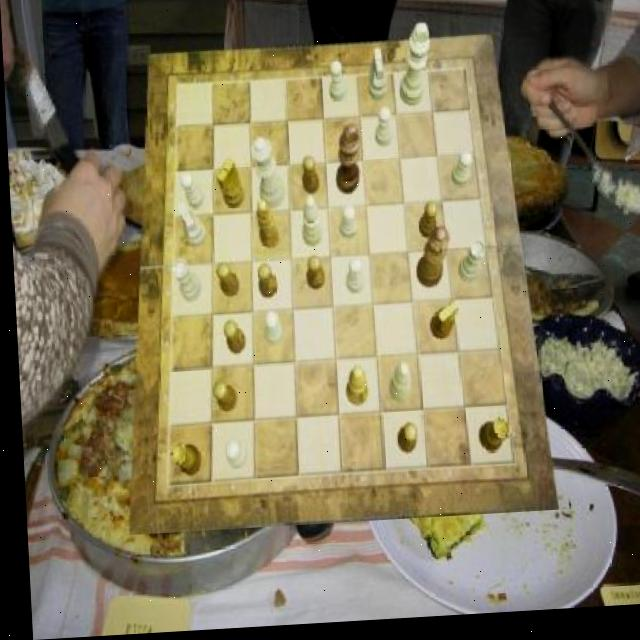bishop: (253, 202, 278, 252), (340, 370, 365, 411)
black-bishop: (332, 127, 362, 199)
black-king: (214, 160, 244, 212), (426, 306, 456, 346)
black-knight: (212, 265, 236, 300), (208, 383, 233, 416), (415, 206, 437, 243), (221, 322, 242, 357), (254, 266, 275, 301), (300, 159, 318, 198), (302, 258, 322, 293), (392, 426, 413, 458)
black-pawn: (412, 232, 449, 294)
black-queen: (473, 422, 507, 458), (164, 443, 197, 478)
black-rook: (300, 199, 322, 251), (383, 366, 408, 407)
white-bishop: (396, 28, 432, 111)
white-king: (175, 203, 204, 250), (366, 53, 388, 106)
white-knight: (178, 174, 203, 213), (449, 157, 472, 193), (328, 64, 346, 107), (373, 111, 392, 151), (261, 312, 280, 348), (342, 263, 361, 298), (337, 208, 356, 243), (221, 443, 243, 472)
white-pawn: (249, 139, 284, 213)
white-queen: (170, 259, 199, 304), (456, 246, 485, 290)
